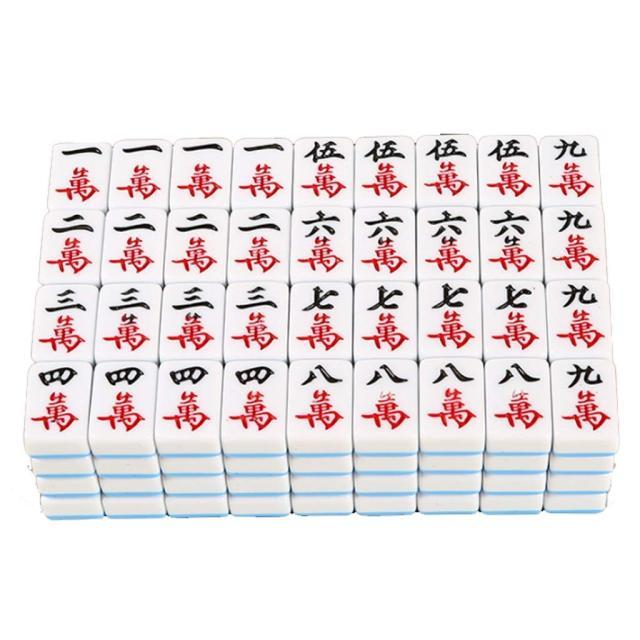sc1: (230, 140, 292, 210), (47, 143, 110, 211), (109, 141, 171, 210), (170, 140, 230, 210)
sc2: (40, 211, 104, 286), (102, 210, 166, 285), (164, 210, 228, 284), (227, 210, 290, 283)
sc3: (32, 286, 98, 363), (97, 284, 162, 362), (162, 284, 226, 361), (225, 282, 288, 360)
sc4: (92, 360, 158, 446), (28, 362, 94, 448), (158, 360, 224, 443), (224, 360, 288, 443)
sc5: (478, 136, 542, 208), (417, 136, 479, 208), (355, 137, 416, 209), (292, 138, 353, 208)
sc6: (482, 207, 546, 281), (290, 207, 352, 283), (354, 208, 416, 282), (418, 208, 480, 282)
sc7: (418, 280, 484, 358), (484, 280, 548, 358), (354, 282, 418, 359), (290, 282, 352, 360)
sc8: (487, 359, 552, 449), (420, 360, 486, 448), (355, 360, 418, 447), (288, 361, 352, 444)
sc9: (553, 358, 620, 451), (546, 280, 612, 360), (542, 206, 608, 282), (540, 136, 604, 208)
